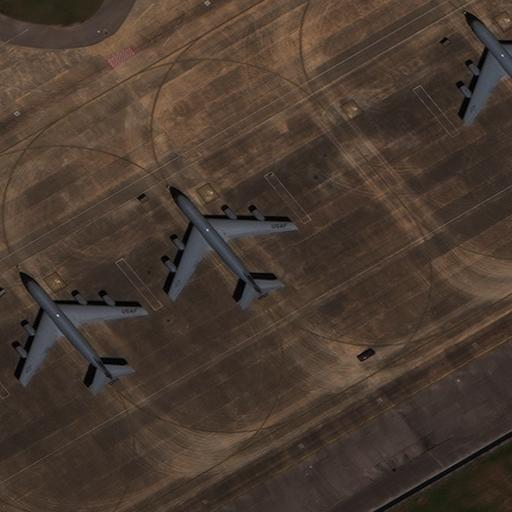Military Transport: (167, 192, 292, 298), (17, 277, 140, 381), (462, 15, 512, 121)
